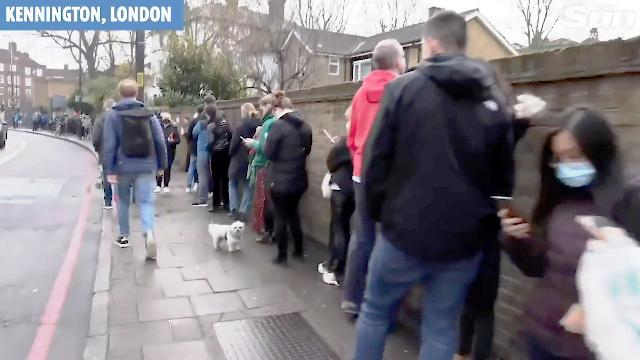berdiri: (341, 13, 515, 360), (258, 90, 312, 279)
berjalan: (94, 75, 174, 271)
